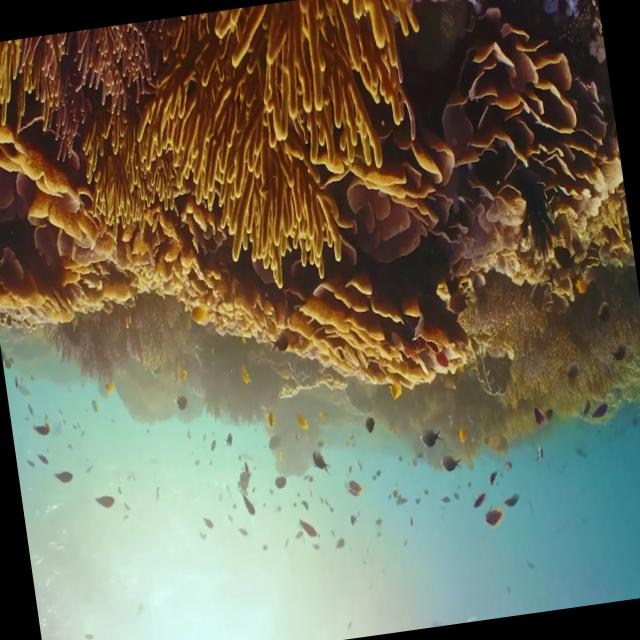fish: (416, 424, 448, 452), (308, 445, 333, 479), (482, 506, 508, 532), (440, 452, 465, 474)
